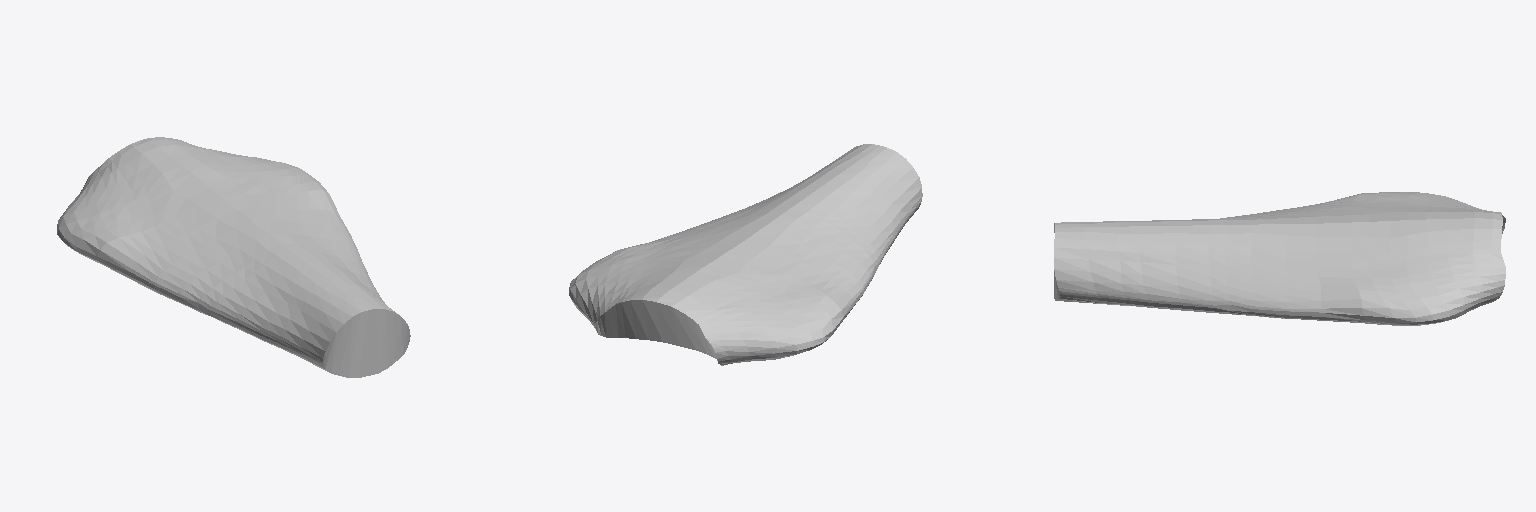
File: Neck_Snake_VTest.obj
3 renders of one model, left to right at view 1: azimuth 30°, elevation 25°; view 2: azimuth 150°, elevation 25°; view 3: azimuth 270°, elevation 25°, orthographic.
Parts seen in each view (by area): view 1: Middle_Neck, Bot_Neck, Top_Neck; view 2: Top_Neck, Middle_Neck, Bot_Neck; view 3: Middle_Neck, Bot_Neck, Top_Neck.
Part boxes in pixels (x1,y1,x2,y2): Middle_Neck: (64,175,361,312); Bot_Neck: (199,243,410,377); Top_Neck: (57,137,308,241); Top_Neck: (569,258,823,365); Middle_Neck: (586,204,875,341); Bot_Neck: (731,144,922,270); Middle_Neck: (1225,192,1416,325); Bot_Neck: (1054,218,1229,313); Top_Neck: (1390,192,1505,325).
Size of the model in its own units: 17.21 by 5.02 by 27.14.